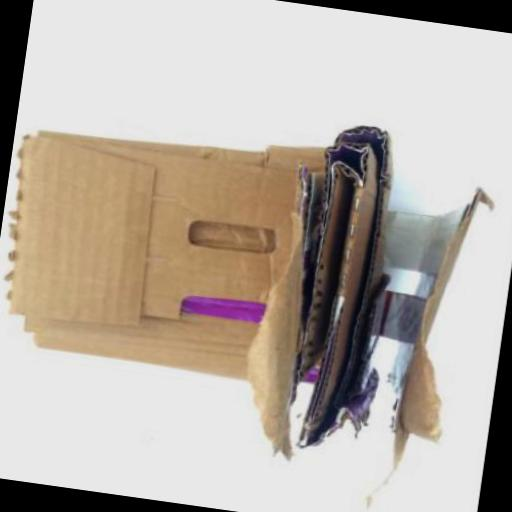cardboard: (0, 80, 507, 486), (242, 116, 504, 480), (0, 105, 331, 386)
